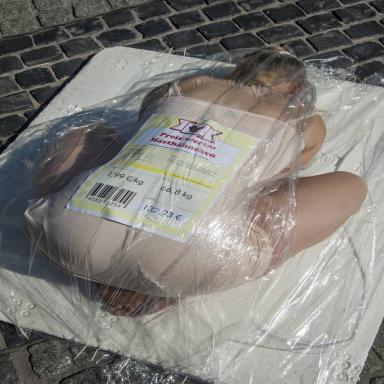plasticbag: (0, 43, 383, 383)
